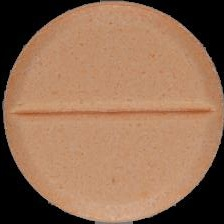0378-0327: (0, 0, 224, 224)
